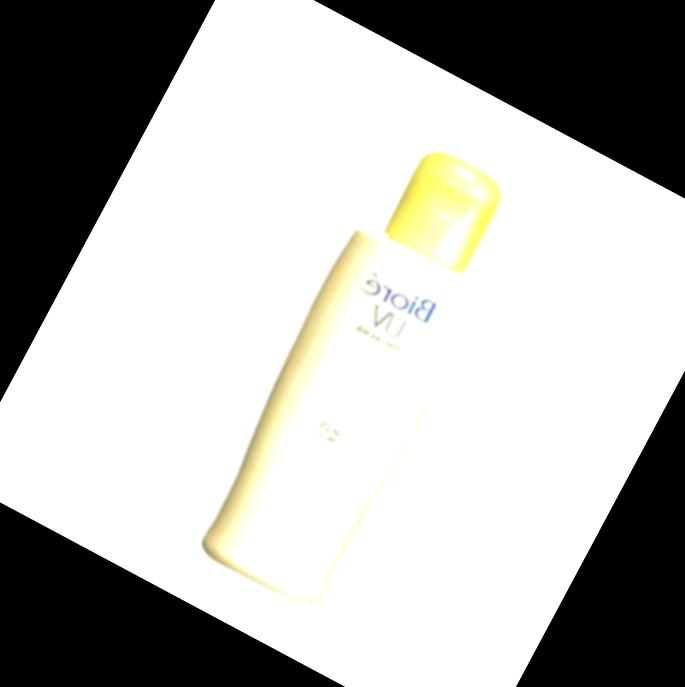cosmetic: (184, 126, 541, 615)
